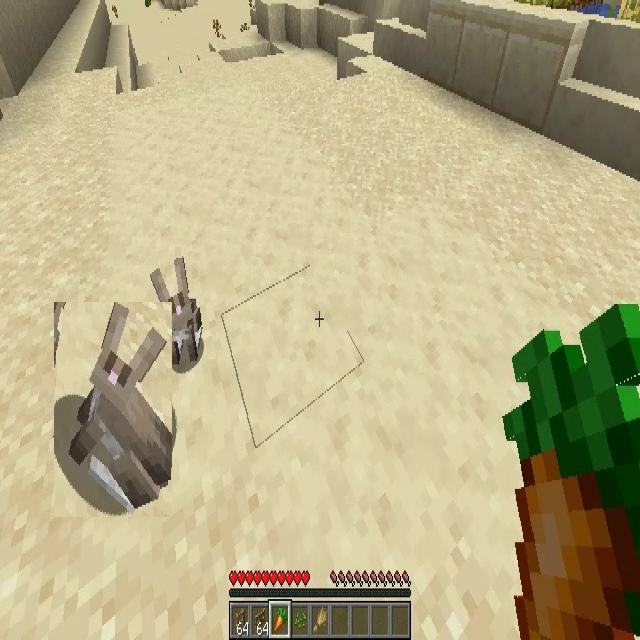rabbit: (54, 302, 172, 517), (149, 258, 204, 367)
